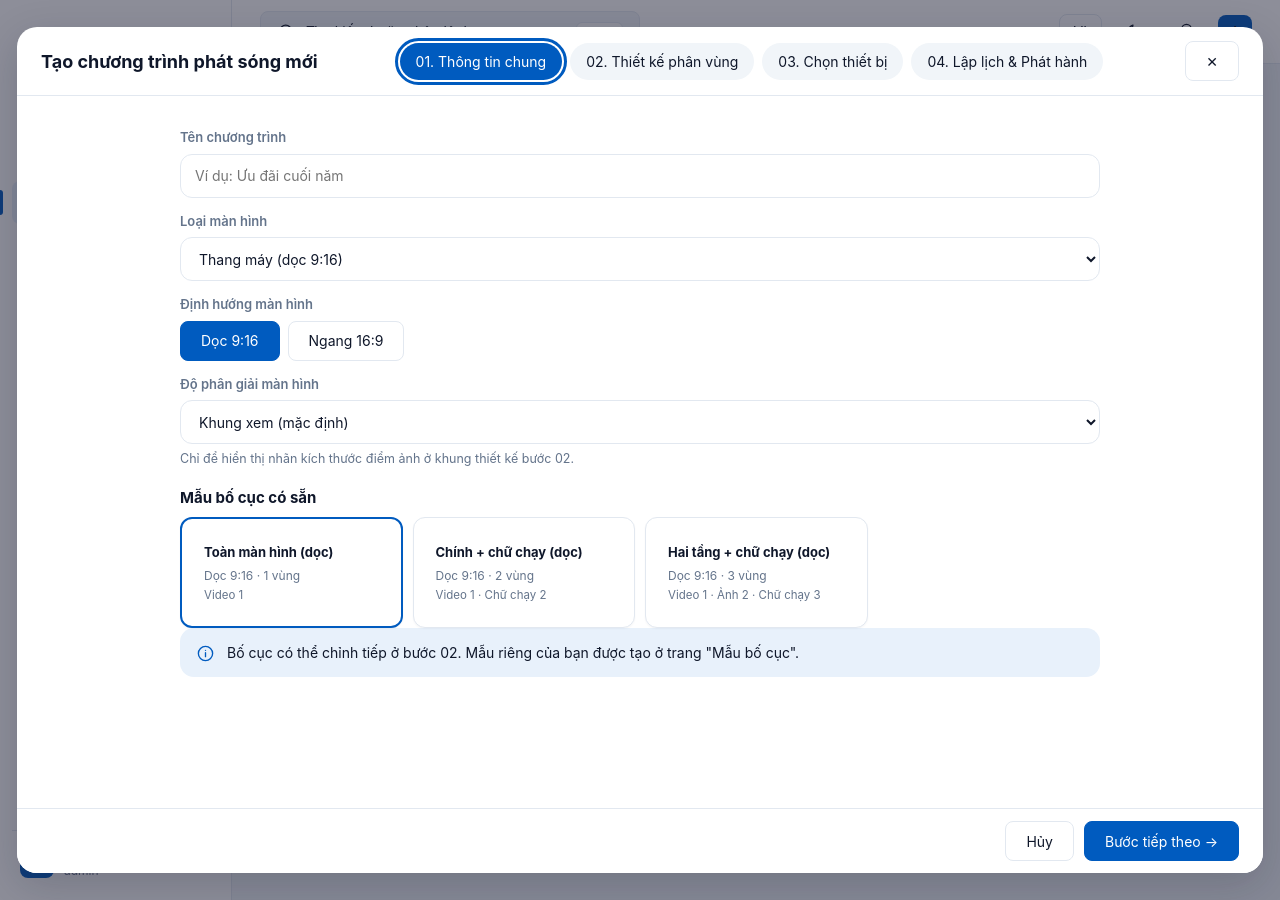
Scenario: Bước 2: danh sách phát › nút "+ Danh sách phát" cạnh "+ Mã QR" trong lưới 2 cột; tạo NHÓM (khung chứa), thành phần thêm sau đó vào nhóm; vùng Ảnh con có playlist rỗng, loop bật
This screenshot has width=1280, height=900.
Step 1. Type "CT" into the field with placeholder "Ví dụ: Ưu đãi cuối năm" → x=640, y=176, box [180, 154, 1100, 198]
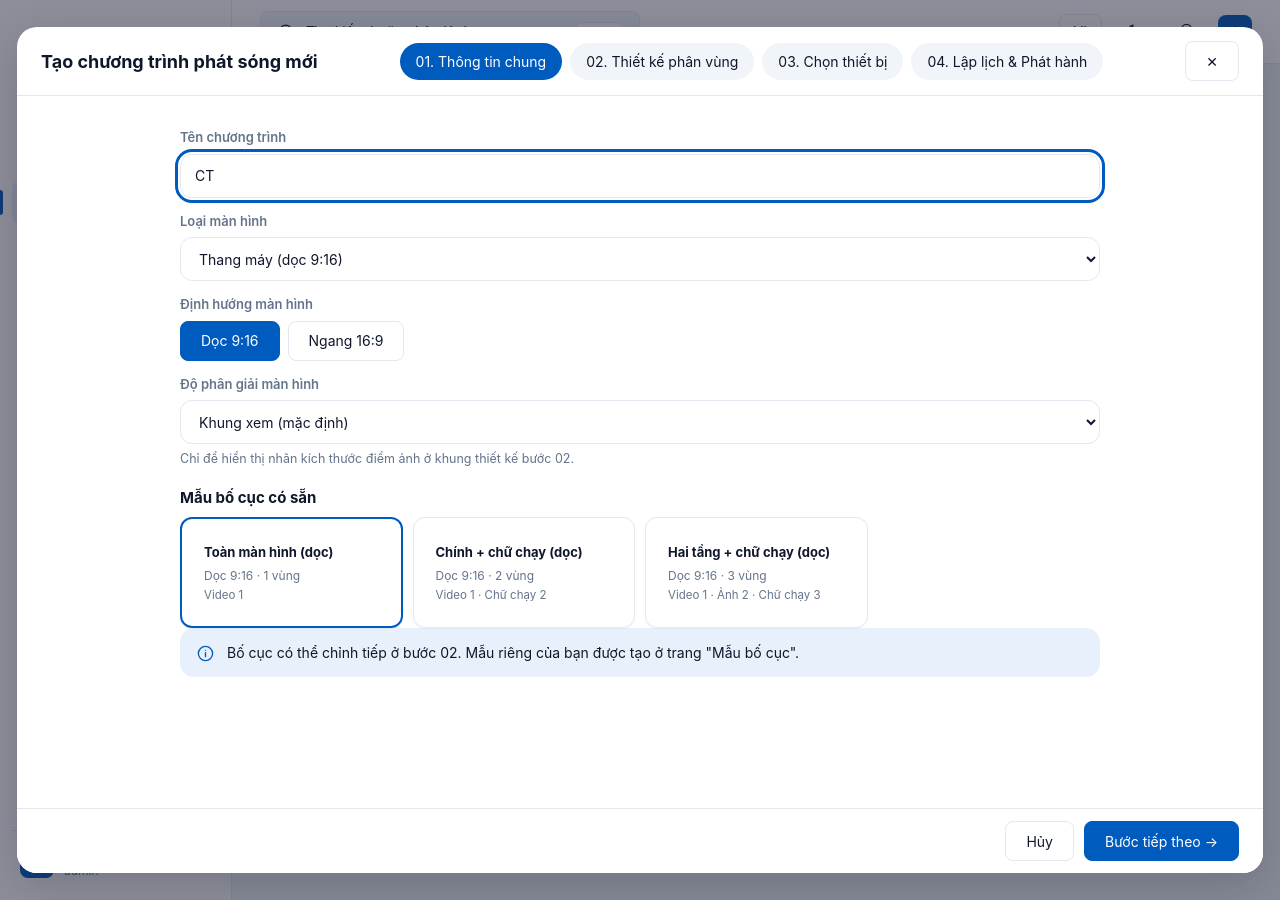
Step 2. Click the button "Bước tiếp theo →" → x=1162, y=841, box [1084, 821, 1239, 861]
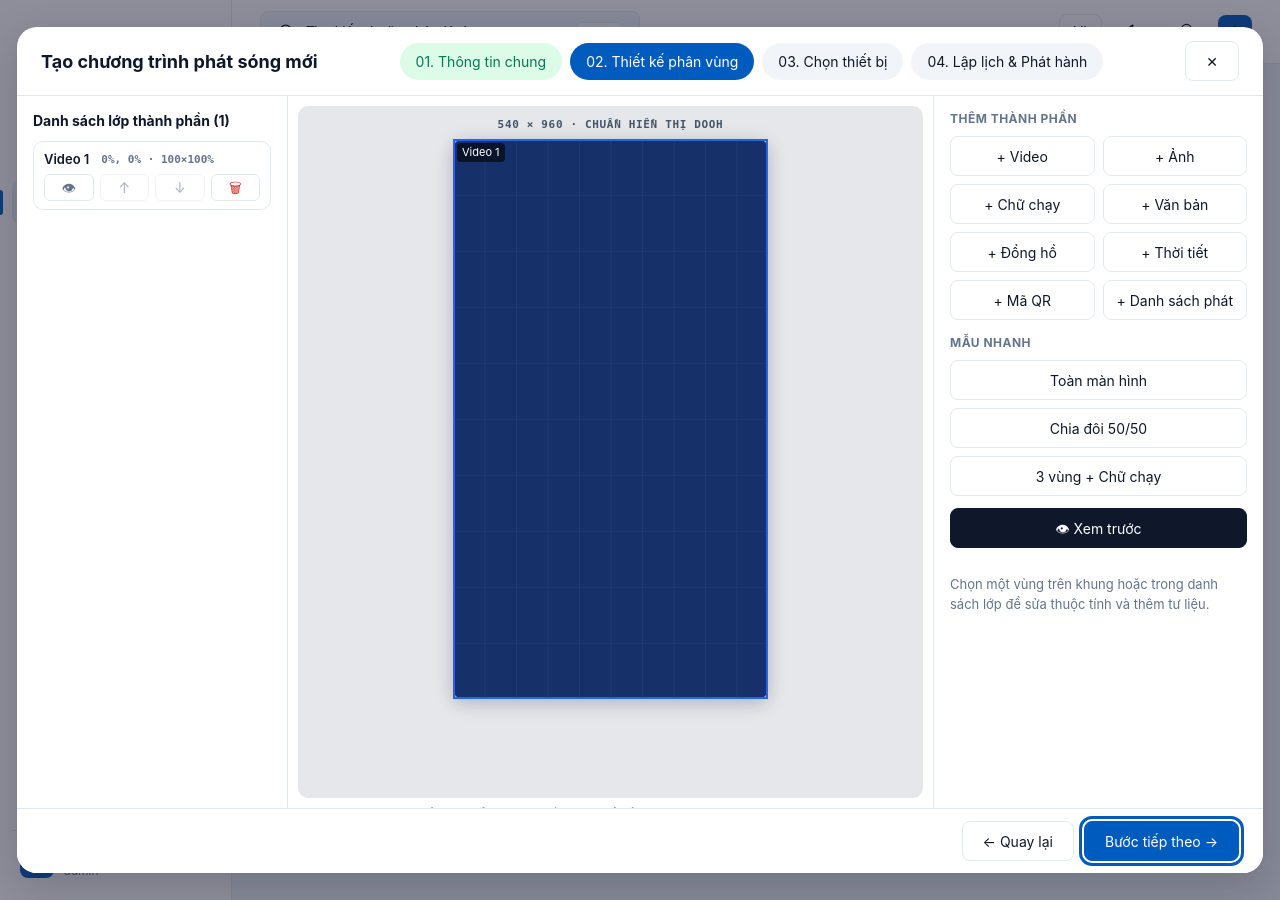
Expected: the heading "Thêm thành phần" is shown, [950, 111, 1077, 126]
Step 3. Click the button "+ Danh sách phát" → x=1175, y=300, box [1102, 280, 1247, 320]
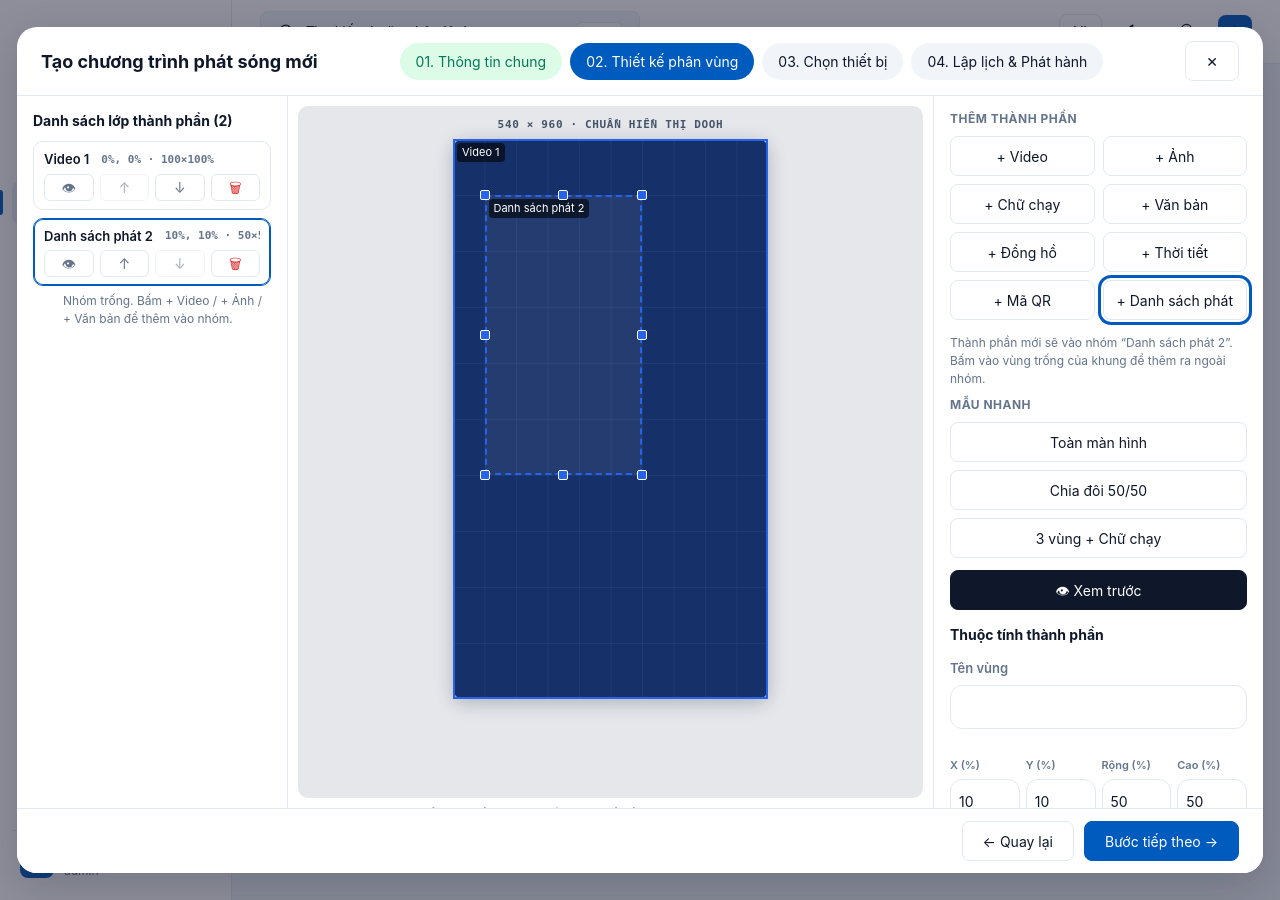
Step 4. Click the button "+ Ảnh" → x=1175, y=156, box [1102, 136, 1247, 176]
(page scrolled)
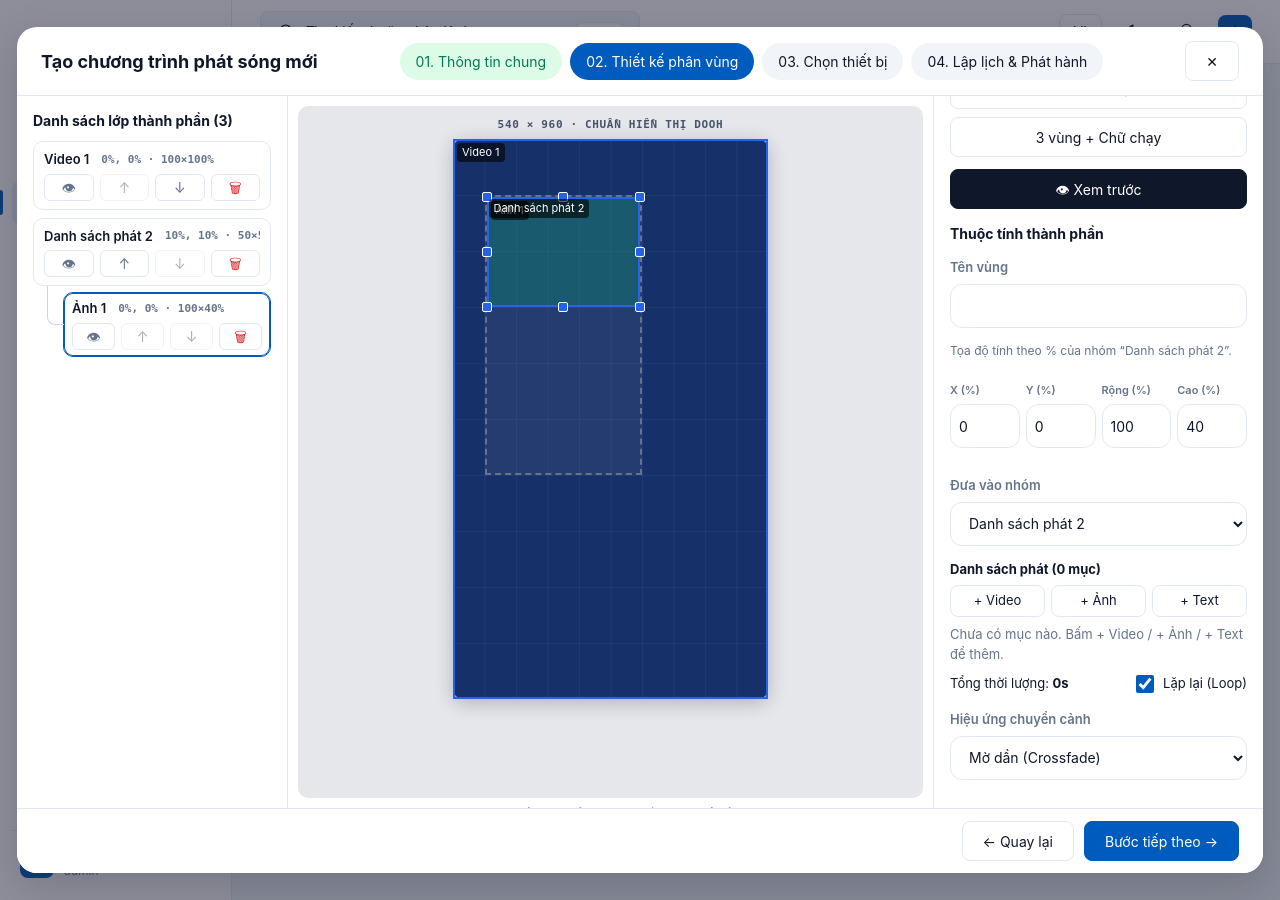
Expected: the text "Danh sách phát (0 mục)" is shown, [950, 560, 1101, 579]
Expected: the checkbox labelled "Lặp lại (Loop)" is checked, [1136, 675, 1154, 693]
